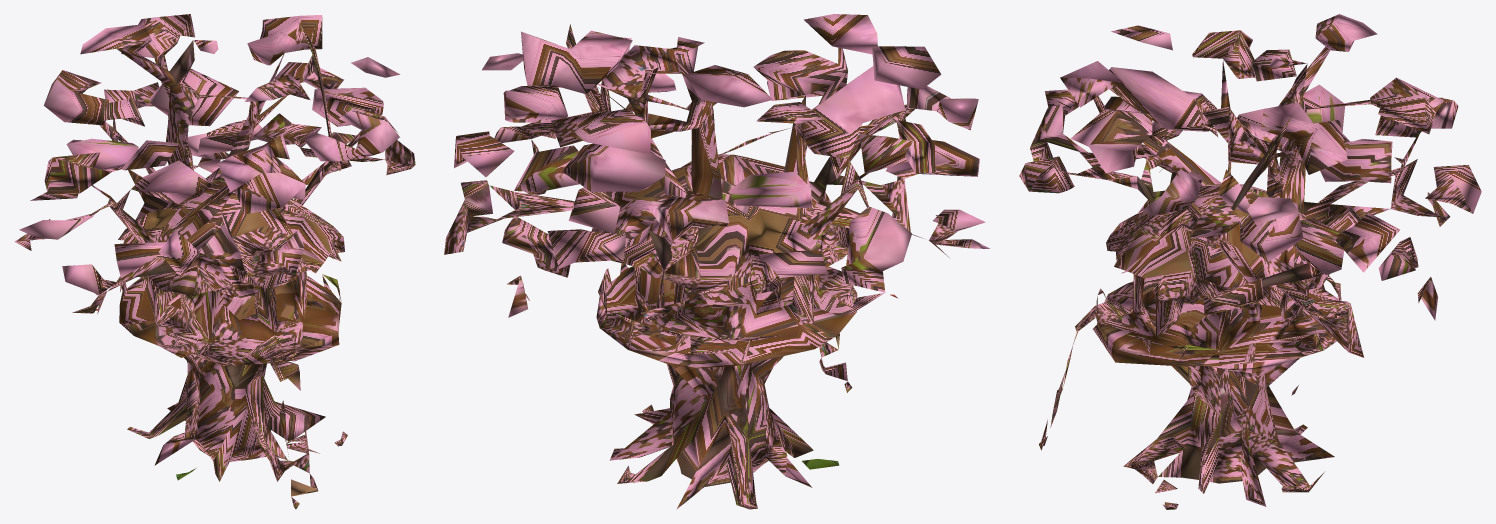
The model's file is h_tree_far.glb.
3 views of the same model, side by side, from view 1: azimuth 30°, elevation 25°; view 2: azimuth 150°, elevation 25°; view 3: azimuth 270°, elevation 25° (orthographic). The views are drawn at different scales.
Parts seen in each view (by area): view 1: tripo_node_41deb99a-6af3-4d21-8cc4-700c0339b936; view 2: tripo_node_41deb99a-6af3-4d21-8cc4-700c0339b936; view 3: tripo_node_41deb99a-6af3-4d21-8cc4-700c0339b936.
Part boxes in pixels (bbox=[...]): tripo_node_41deb99a-6af3-4d21-8cc4-700c0339b936: bbox=[14, 14, 415, 509]; tripo_node_41deb99a-6af3-4d21-8cc4-700c0339b936: bbox=[444, 14, 989, 509]; tripo_node_41deb99a-6af3-4d21-8cc4-700c0339b936: bbox=[1019, 14, 1481, 509].
Size of the model in its own units: 0.9783 by 0.9452 by 0.9561.
Materials: 1 (1 with a texture image).
